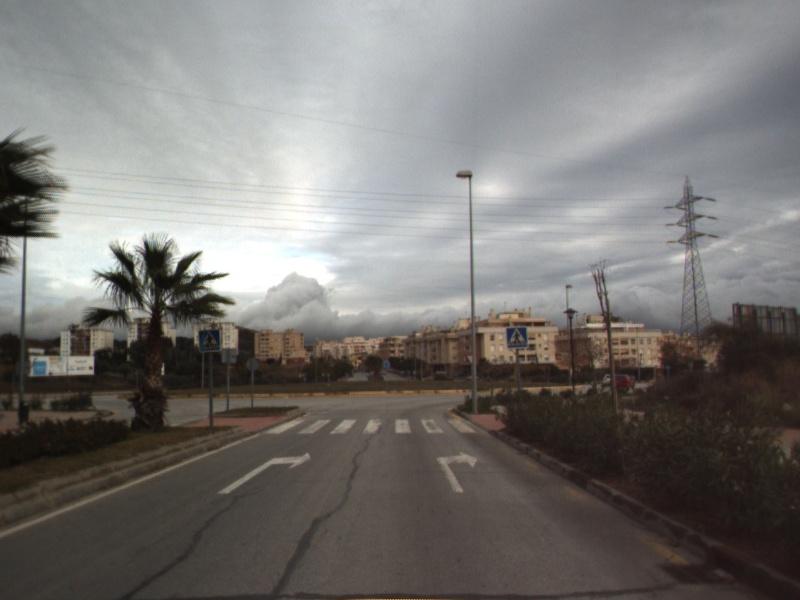RIGHT: (216, 450, 313, 496), (435, 450, 479, 495)
